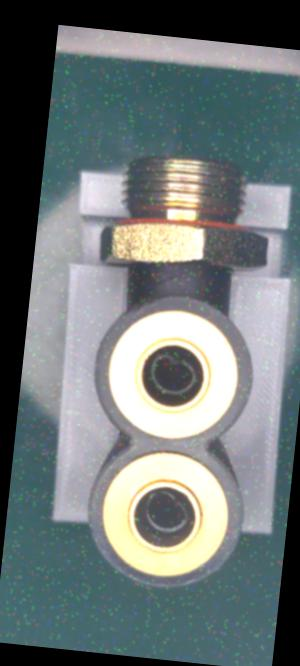craze: (150, 269, 190, 288)
off-centered: (140, 481, 195, 545), (144, 346, 205, 400)
